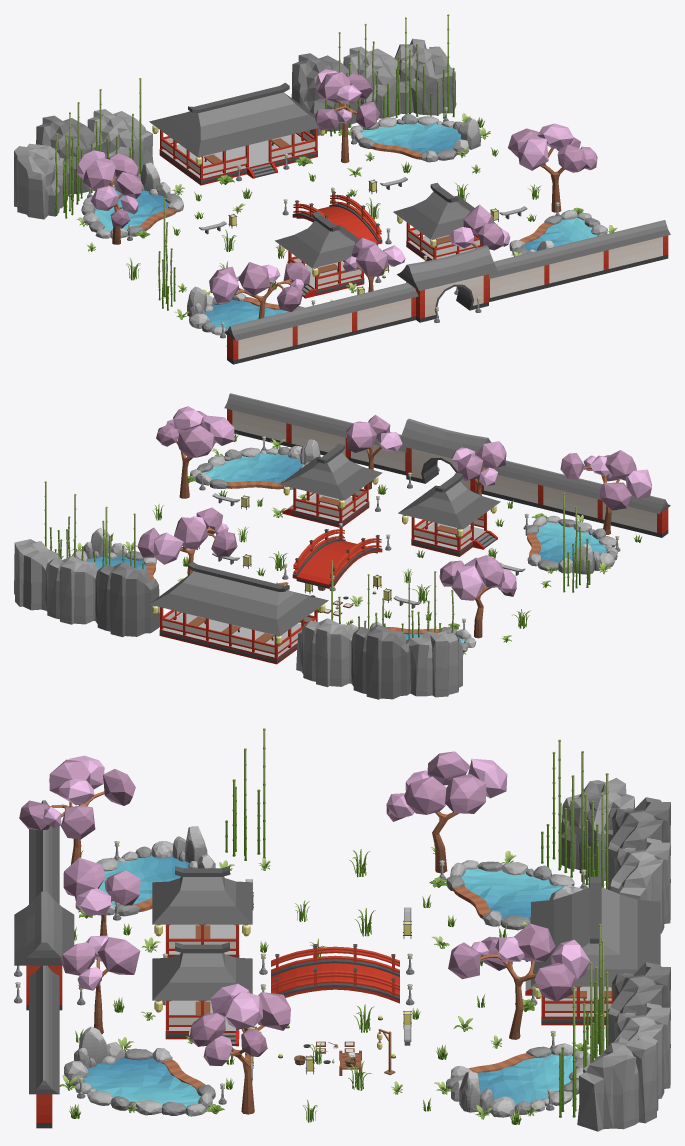
Rendered from bamboo_tea.glb.
3 views of the same model, one above another, from view 1: azimuth 30°, elevation 25°; view 2: azimuth 150°, elevation 25°; view 3: azimuth 270°, elevation 25° (orthographic). The views are drawn at different scales.
Visible parts, largest first — view 1: japanese gazebo 2_79, hot spring (2)_73, japanese gate 2_180, japanese gazebo (1)_20, japanese gazebo_197, stone large_25, sakura tree 3_283, stone large (3)_92, sakura tree 2_276, sakura tree 4_201, hot spring (3)_50, sakura tree 4 (1)_30 (+15 smaller); view 2: japanese gazebo 2_79, japanese gazebo (1)_20, japanese gazebo_197, stone large 2 (1)_27, hot spring (1)_285, hot spring_52, stone large 2_266, stone large (1)_172, stone large_25, japanese gate 2_180, stone large (2)_56, sakura tree 4_201 (+15 smaller); view 3: japanese gazebo 2_79, hot spring (1)_285, japanese gazebo (1)_20, hot spring (2)_73, stone large (3)_92, japanese gazebo_197, sakura tree 4 (1)_30, sakura tree 3_283, hot spring (3)_50, sakura tree 2_276, japanese bridge_214, sakura tree 4_201 (+13 smaller).
Boxes of the visible parts, x1=… form: japanese gazebo 2_79: x1=149, y1=82, x2=325, y2=185; hot spring (2)_73: x1=350, y1=114, x2=480, y2=162; japanese gate 2_180: x1=397, y1=245, x2=498, y2=322; japanese gazebo (1)_20: x1=275, y1=211, x2=364, y2=298; japanese gazebo_197: x1=393, y1=182, x2=495, y2=261; stone large_25: x1=14, y1=143, x2=67, y2=219; sakura tree 3_283: x1=76, y1=150, x2=141, y2=244; stone large (3)_92: x1=394, y1=38, x2=456, y2=115; sakura tree 2_276: x1=508, y1=123, x2=597, y2=212; sakura tree 4_201: x1=209, y1=262, x2=310, y2=318; hot spring (3)_50: x1=81, y1=162, x2=183, y2=238; sakura tree 4 (1)_30: x1=314, y1=69, x2=379, y2=163; japanese gazebo 2_79: x1=149, y1=561, x2=328, y2=664; japanese gazebo (1)_20: x1=398, y1=472, x2=500, y2=556; japanese gazebo_197: x1=279, y1=443, x2=382, y2=527; stone large 2 (1)_27: x1=95, y1=562, x2=159, y2=637; hot spring (1)_285: x1=190, y1=439, x2=320, y2=489; hot spring_52: x1=525, y1=515, x2=617, y2=574; stone large 2_266: x1=351, y1=624, x2=409, y2=699; stone large (1)_172: x1=296, y1=618, x2=354, y2=687; stone large_25: x1=406, y1=631, x2=462, y2=697; japanese gate 2_180: x1=400, y1=418, x2=491, y2=493; stone large (2)_56: x1=45, y1=556, x2=98, y2=624; sakura tree 4_201: x1=560, y1=450, x2=651, y2=534; japanese gazebo 2_79: x1=525, y1=876, x2=660, y2=1025; hot spring (1)_285: x1=64, y1=1026, x2=215, y2=1116; japanese gazebo (1)_20: x1=152, y1=866, x2=252, y2=957; hot spring (2)_73: x1=445, y1=1043, x2=590, y2=1117; stone large (3)_92: x1=577, y1=1034, x2=658, y2=1131; japanese gazebo_197: x1=152, y1=942, x2=252, y2=1046; sakura tree 4 (1)_30: x1=448, y1=923, x2=590, y2=1039; sakura tree 3_283: x1=386, y1=751, x2=507, y2=873; hot spring (3)_50: x1=446, y1=860, x2=583, y2=930; sakura tree 2_276: x1=189, y1=983, x2=290, y2=1114; japanese bridge_214: x1=271, y1=944, x2=399, y2=1003; sakura tree 4_201: x1=19, y1=755, x2=135, y2=864.
Size of the model in its own units: 18.17 by 5.76 by 17.84.
Materials: 1 (1 with a texture image).
